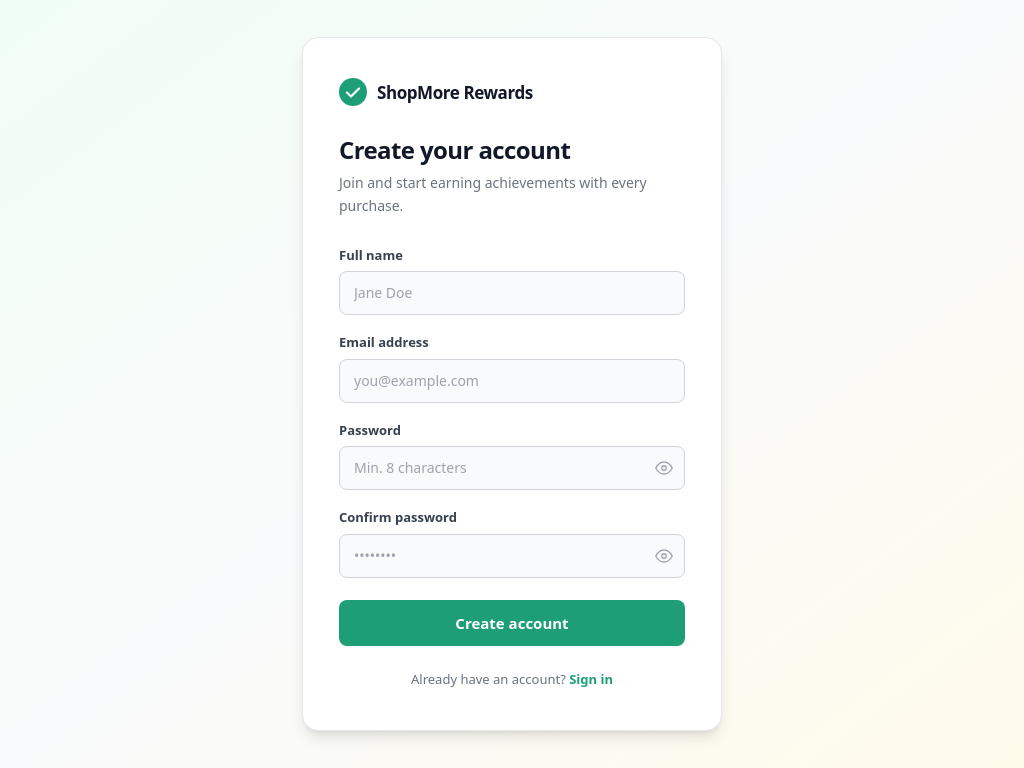
RegisterPage › shows password policy checklist after typing in the password field
Type "a" into the password field labelled "Password" at (512, 468), box top-left (339, 446), bottom-right (685, 490)
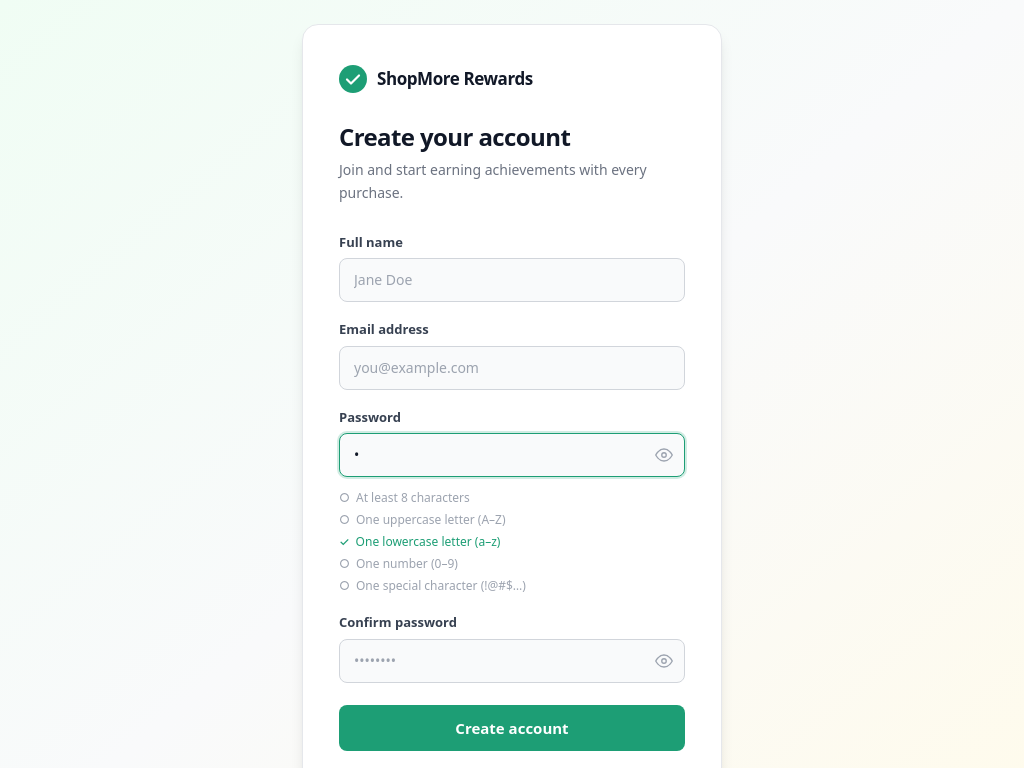
Expected: the list named "password requirements" is shown, top-left (339, 489), bottom-right (526, 594)
